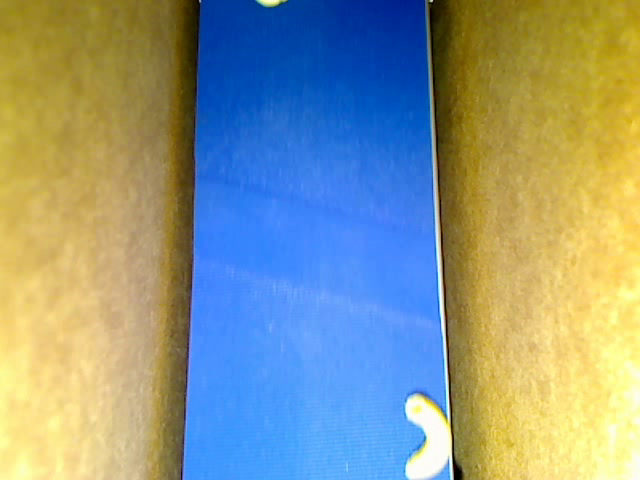elbow: (405, 391, 451, 479)
